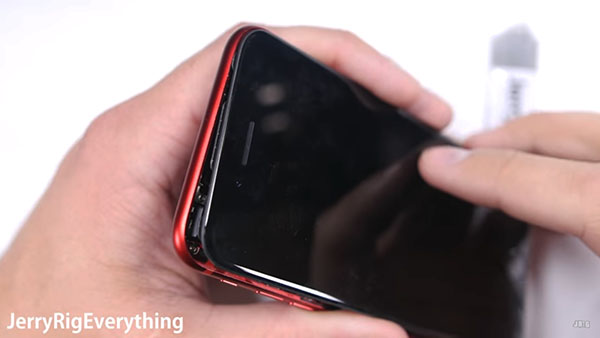Phone: (169, 20, 541, 338)
